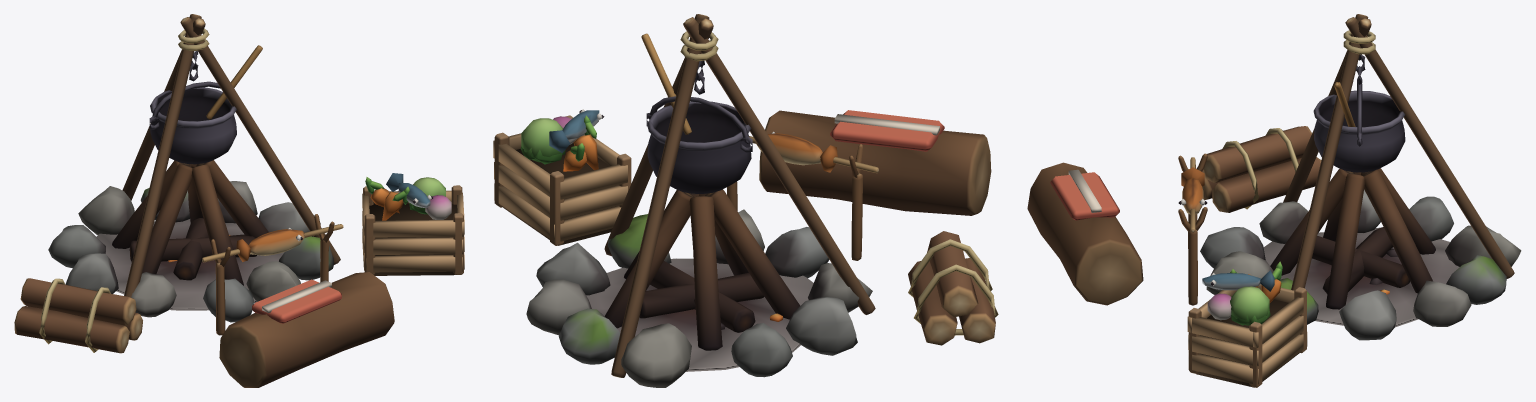
The model's file is prop-campfire.glb.
The picture shows the model from 3 angles, left to right: view 1: azimuth 30°, elevation 25°; view 2: azimuth 150°, elevation 25°; view 3: azimuth 270°, elevation 25°; orthographic projection. The views are drawn at different scales.
Parts seen in each view (by area): view 1: body; view 2: body; view 3: body.
Part boxes in pixels (x1,y1,x2,y2): body: [14, 14, 464, 387]; body: [493, 14, 998, 387]; body: [1027, 14, 1521, 387].
Size of the model in its own units: 2.6 by 1.47 by 2.43.
